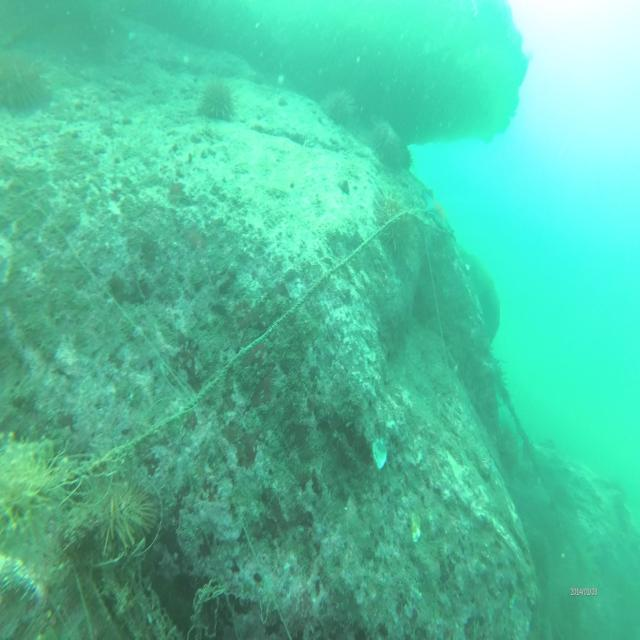echinus: (377, 194, 409, 262), (200, 74, 233, 122), (370, 118, 400, 162), (321, 86, 355, 122)
